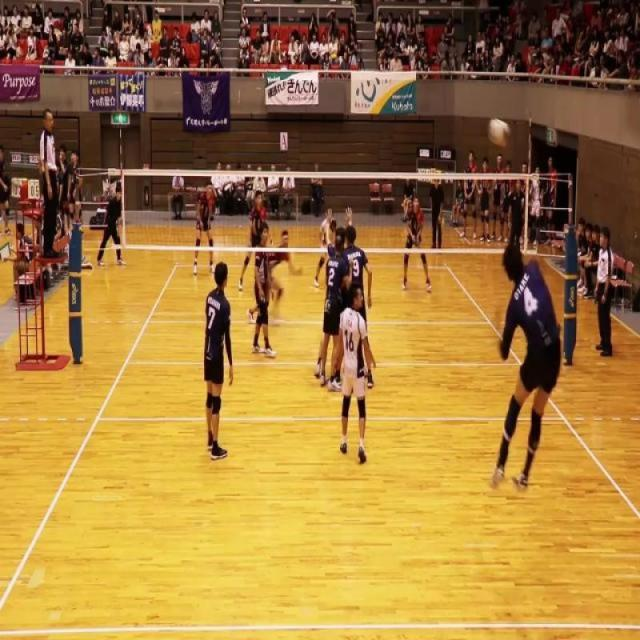volleyball: (486, 116, 511, 148)
